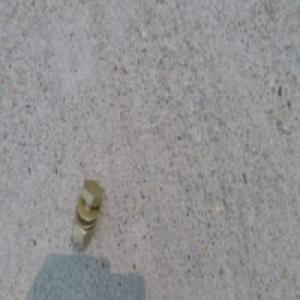BoltNutSet: (69, 175, 102, 247)
